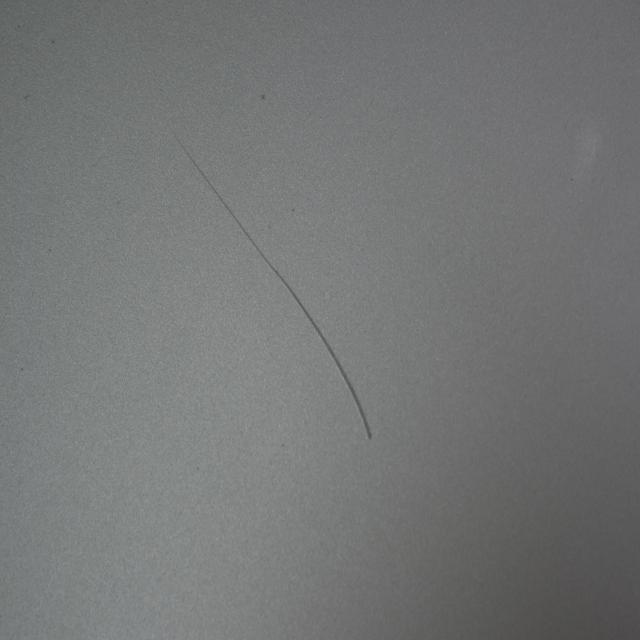dirt: (258, 84, 269, 102)
scratch: (165, 113, 377, 450)
